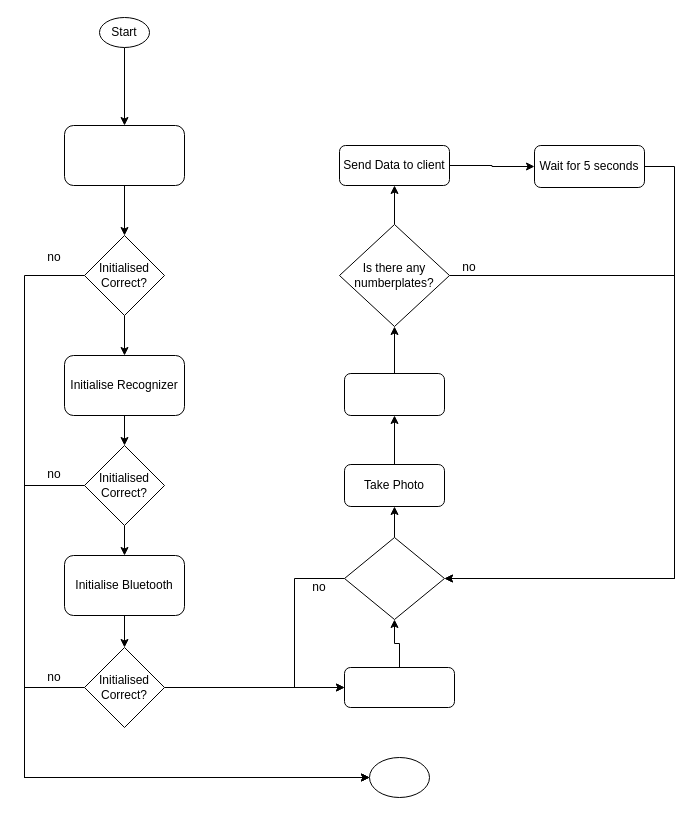
The diagram is 700 pixels wide and 815 high, and some of its shapes have lost their labels. Each missing label, with the centre of its shape:
End: the point at 399,777
Initialise Camera Module: the point at 124,155
Is Client Connected?: the point at 394,578
Recognize numberplates: the point at 394,394
Wait For client to connect: the point at 399,687
